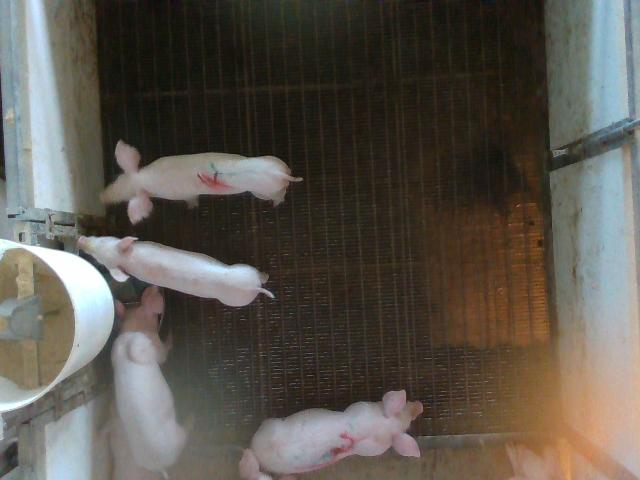pig-3: (250, 390, 422, 474)
pig-4: (101, 140, 302, 223)
